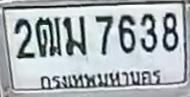2: (14, 17, 34, 58)
3: (140, 12, 158, 52)
6: (117, 14, 136, 53)
7: (95, 15, 113, 54)
8: (162, 12, 178, 52)
A18: (34, 16, 62, 57)
A33: (63, 14, 86, 56)
BKK: (34, 65, 166, 91)
